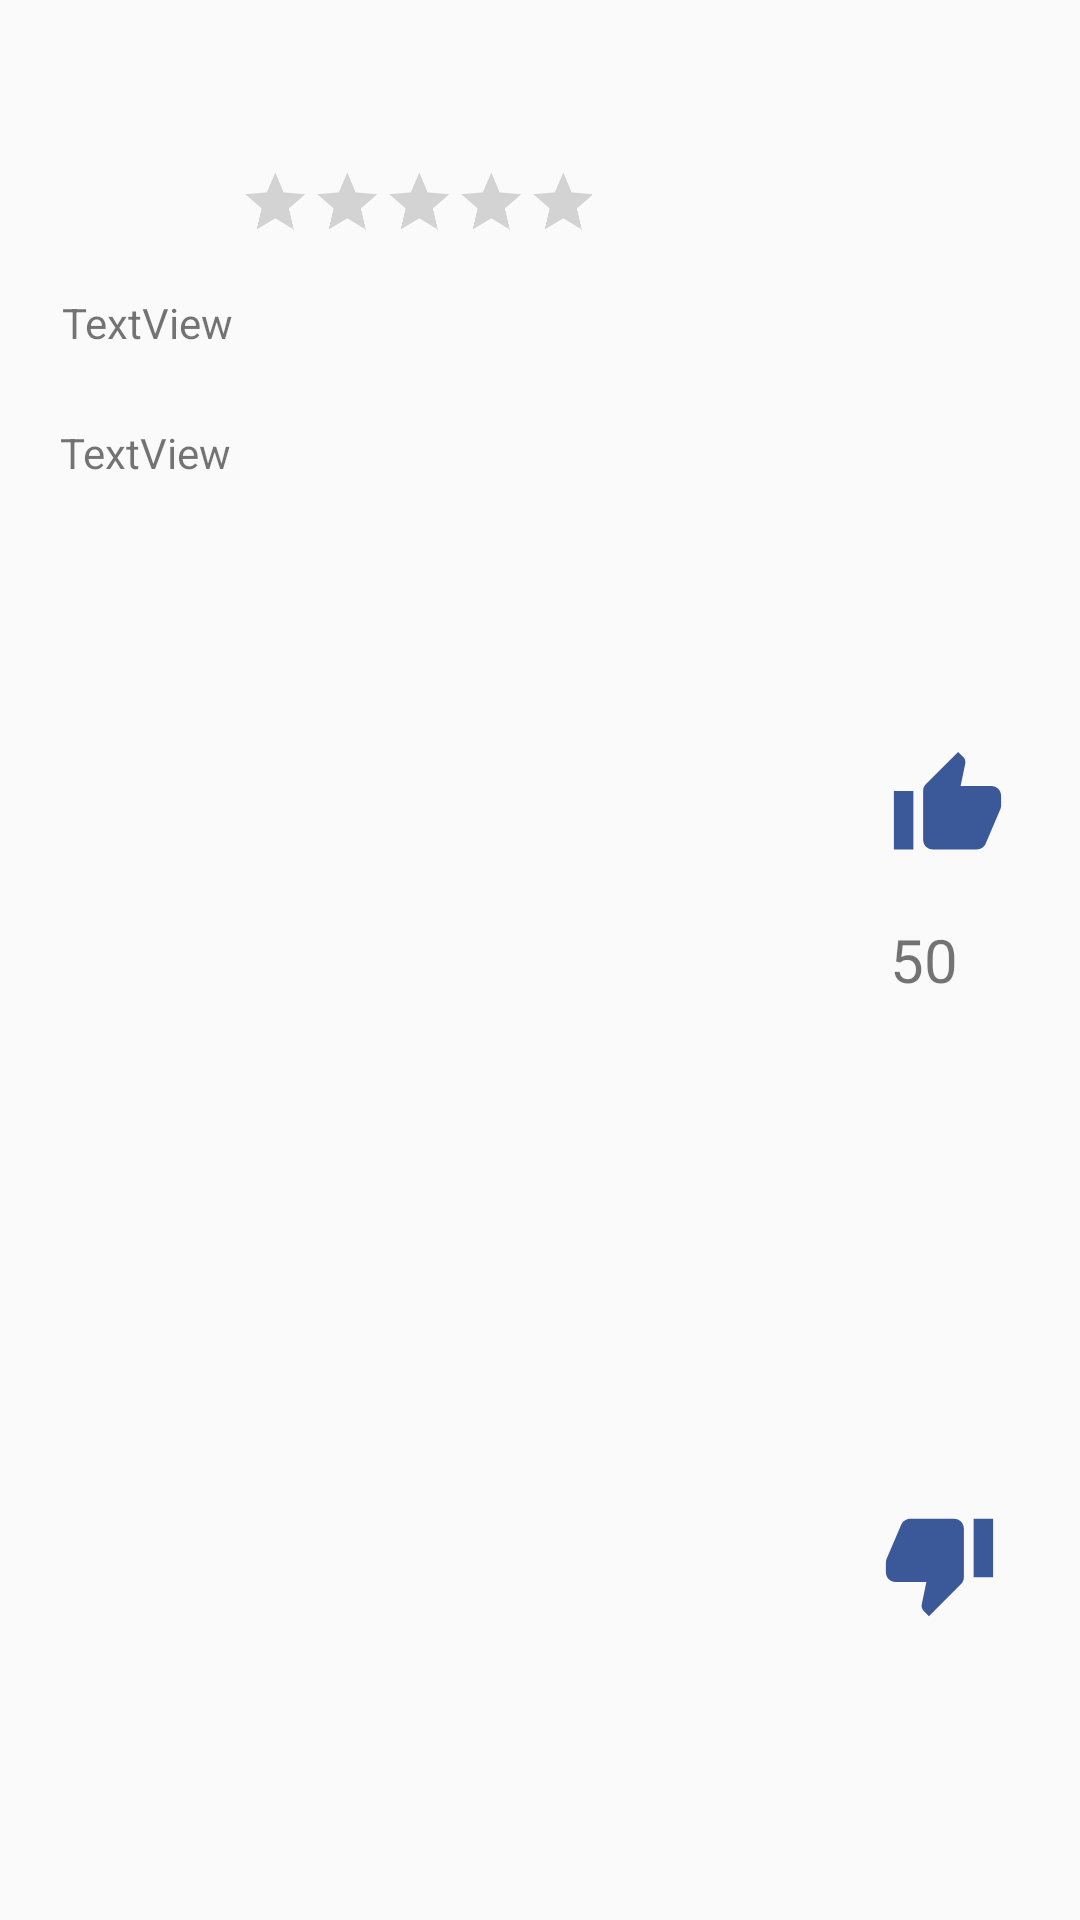

Where icons sit on this 1080x1920 app screen, as [x1=x1, y1=y1, x2=x2, y2=y2]:
thumb down: [x1=885, y1=1518, x2=993, y2=1616]
thumb up: [x1=894, y1=752, x2=1001, y2=850]
